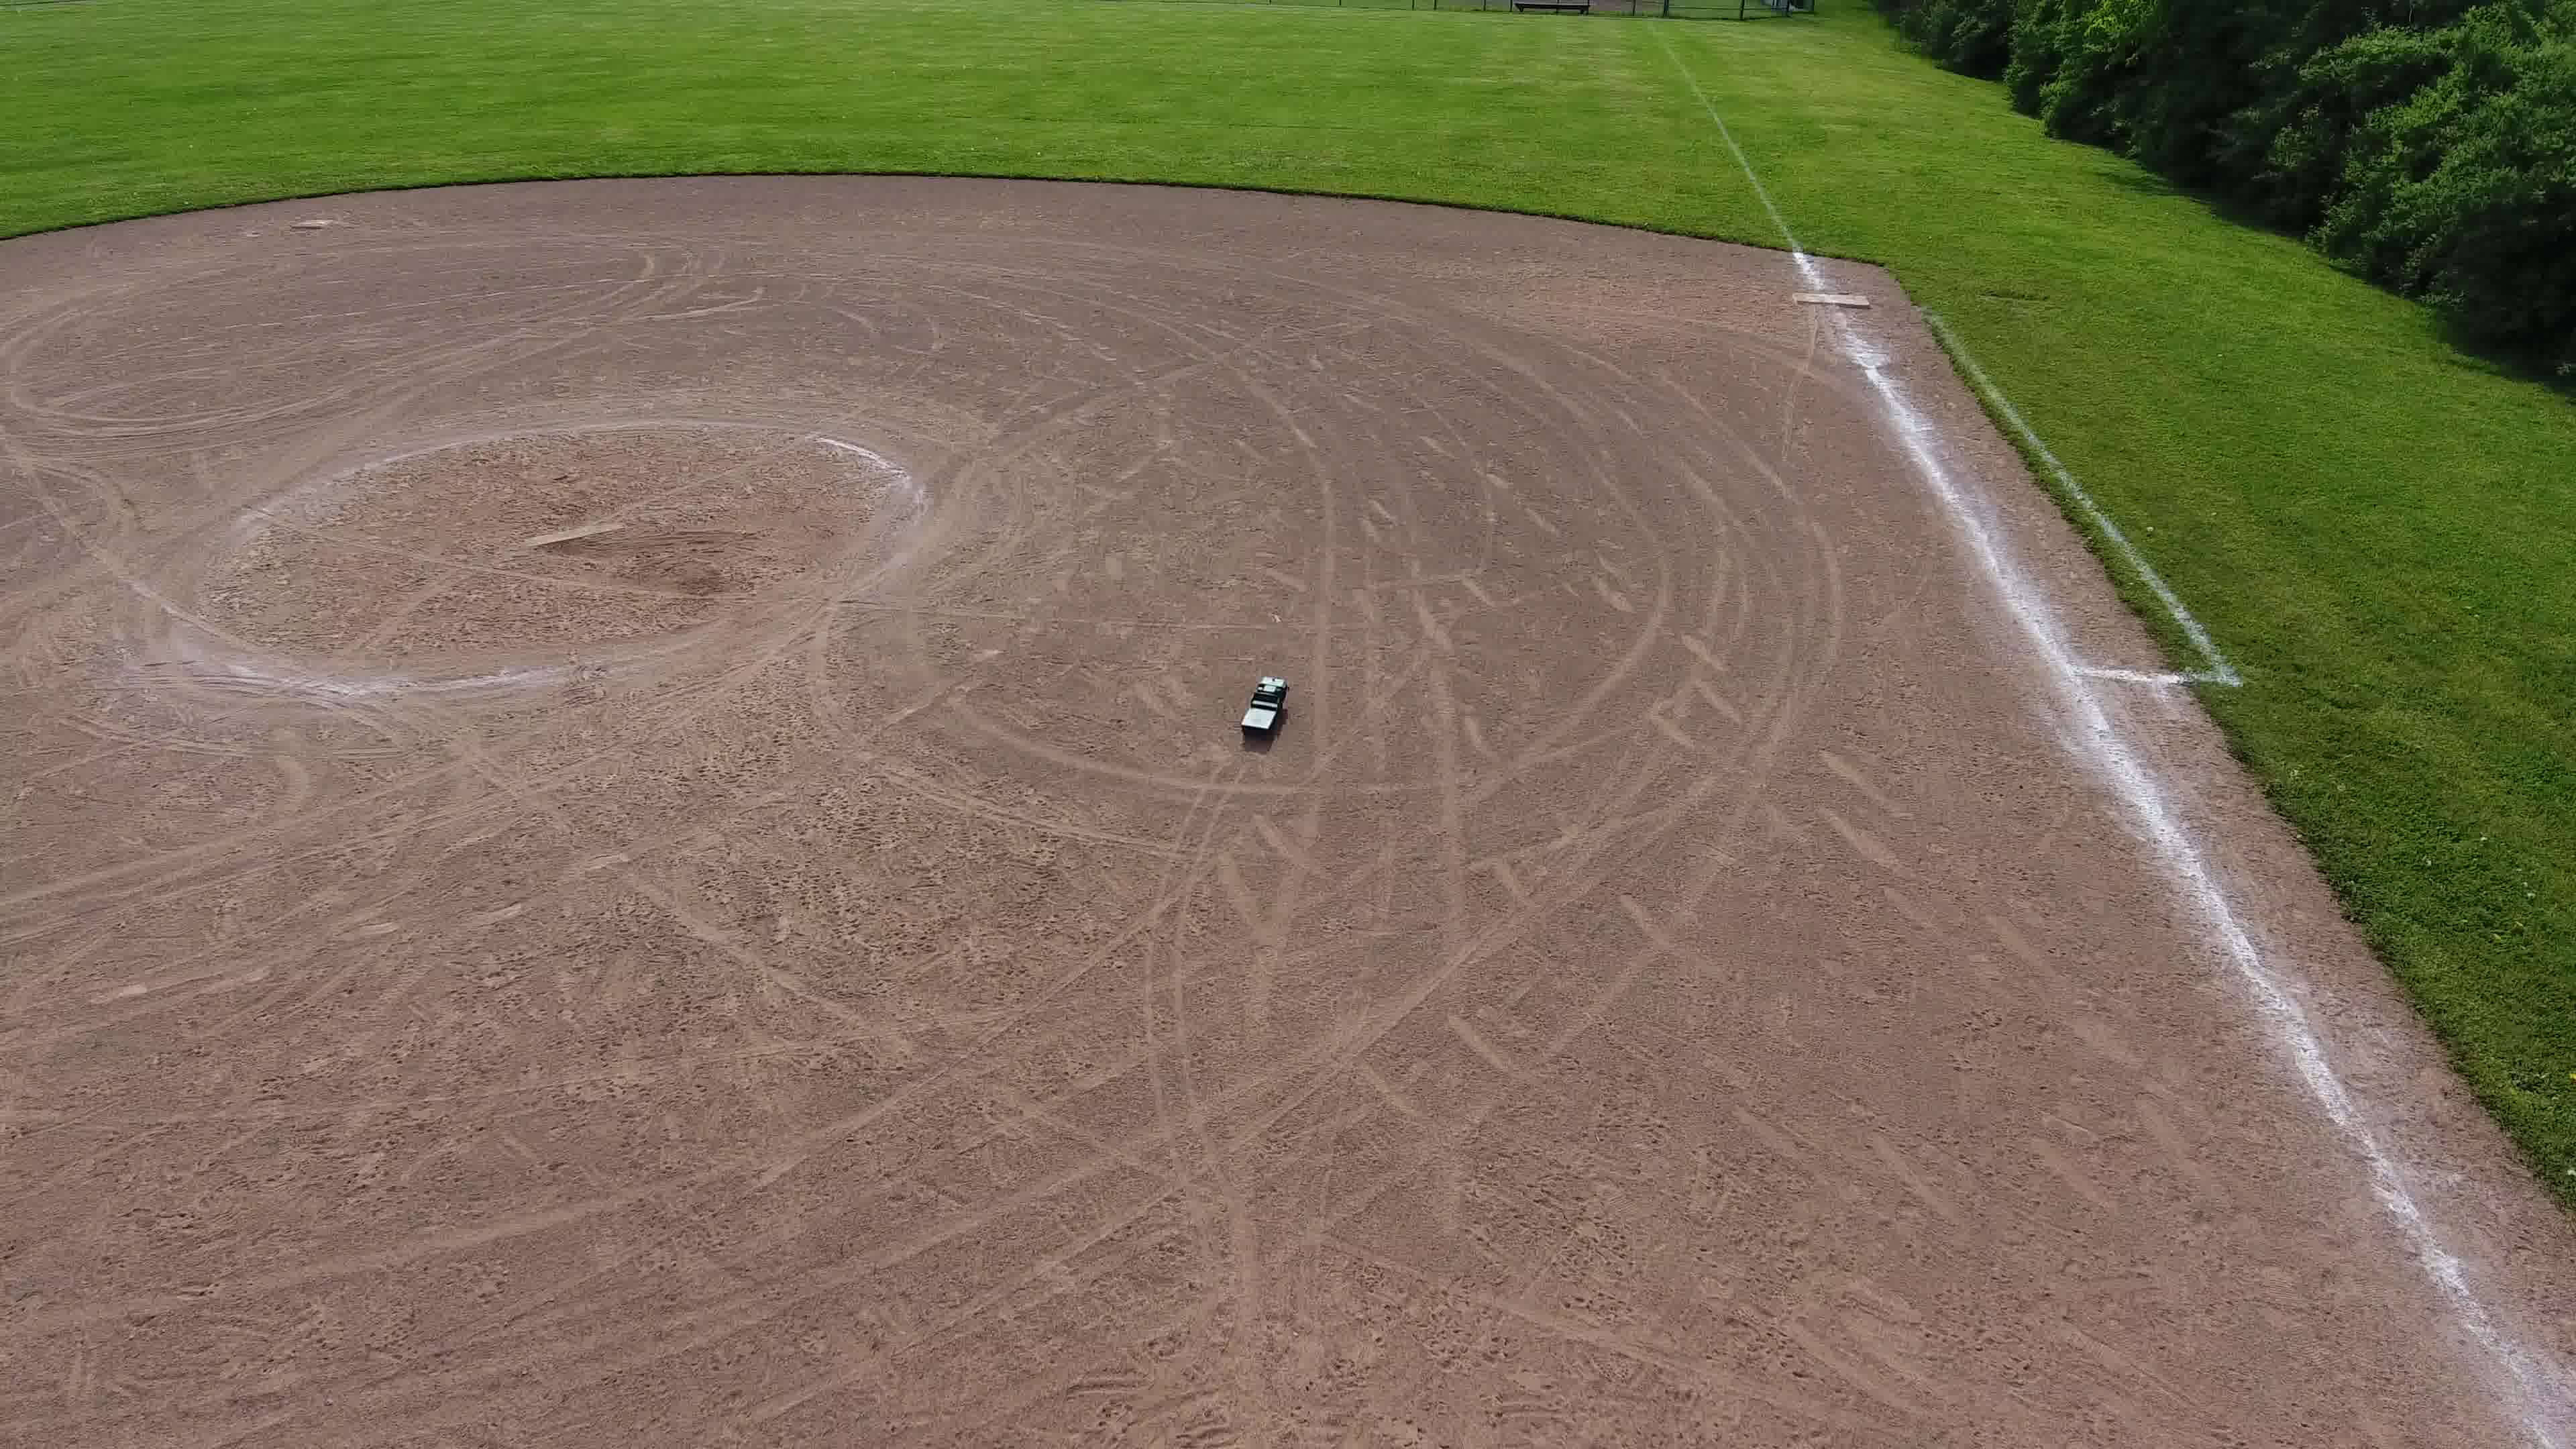transporter9: (1240, 674, 1293, 740)
